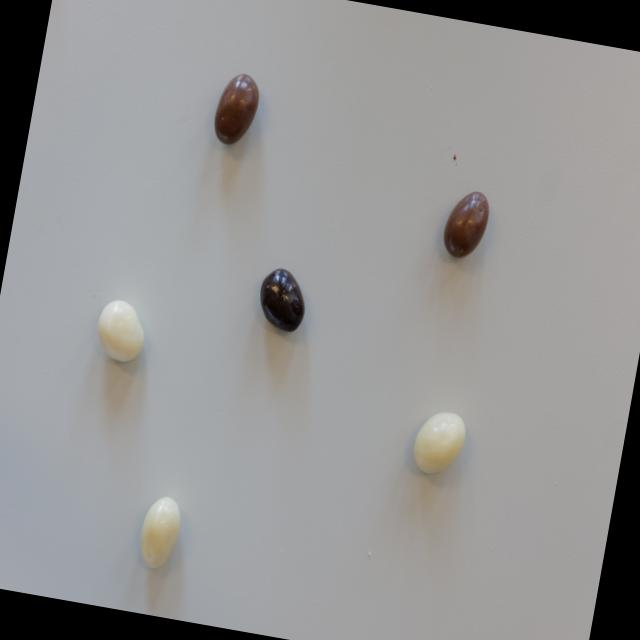Jelly_Black: (252, 265, 310, 335)
Jelly_Milk: (209, 72, 263, 150), (439, 186, 492, 263)
Jelly_White: (410, 406, 470, 477), (91, 296, 149, 366), (134, 491, 184, 570)
